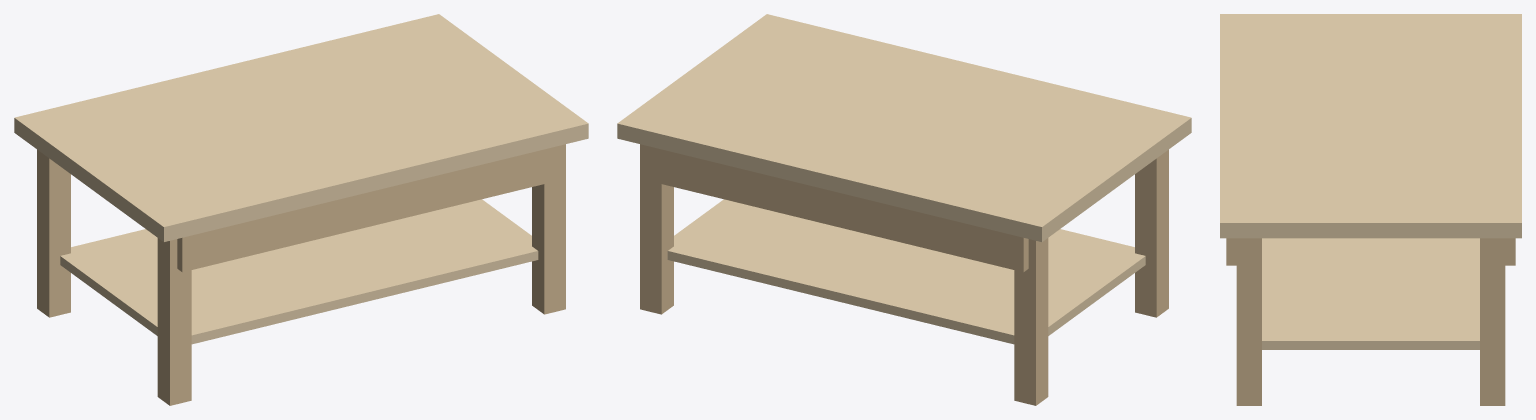
File: ikea-valnas-20628038-g2-coffee-table-proxy.glb
3 renders of one model, left to right at view 1: azimuth 30°, elevation 25°; view 2: azimuth 150°, elevation 25°; view 3: azimuth 270°, elevation 25°, orthographic.
Parts seen in each view (by area): view 1: table_top, lower_shelf, solid_oak_leg (×3), rear_apron; view 2: table_top, lower_shelf, solid_oak_leg (×3), front_apron; view 3: table_top, lower_shelf, solid_oak_leg (×2), front_apron, rear_apron.
Boxes of the visible parts, x1,y1,x2,y2 form: table_top: (14,14,588,241); lower_shelf: (60,199,538,344); solid_oak_leg (×3): (37,144,565,405); rear_apron: (177,144,563,272); table_top: (617,14,1191,241); lower_shelf: (667,199,1145,344); solid_oak_leg (×3): (640,144,1168,405); front_apron: (642,144,1028,272); table_top: (1220,14,1521,238); lower_shelf: (1262,238,1479,349); solid_oak_leg (×2): (1236,238,1505,405); front_apron: (1505,238,1515,265); rear_apron: (1226,238,1236,265).
Size of the model in its own units: 1.18 by 0.5 by 0.72.
